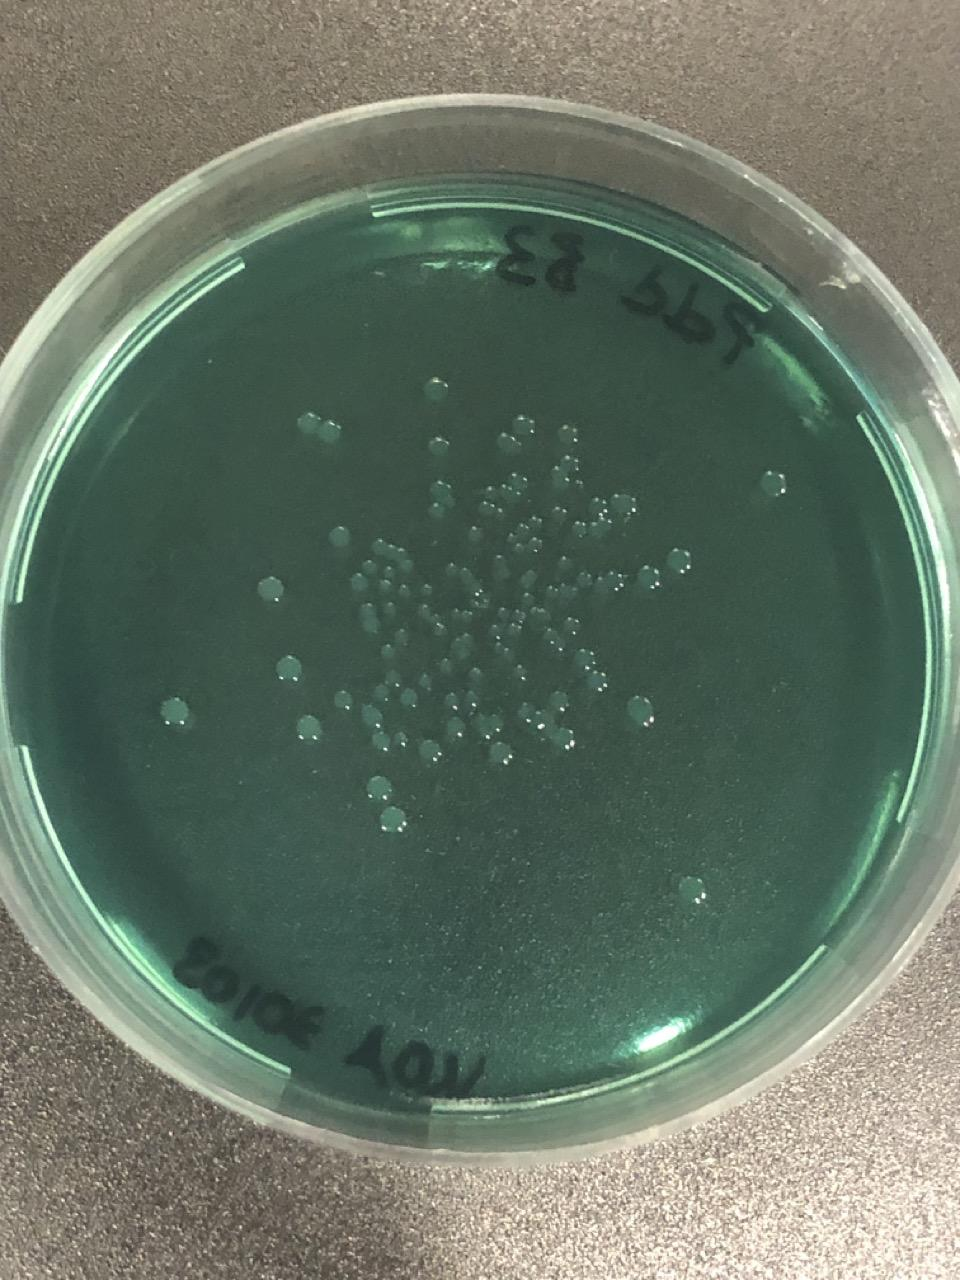pddamselae: (572, 492, 636, 538), (475, 470, 529, 520), (496, 606, 552, 638), (572, 648, 610, 694), (373, 539, 414, 575), (536, 689, 571, 726), (548, 454, 581, 486), (429, 480, 452, 518), (678, 877, 706, 905), (379, 806, 407, 834), (364, 773, 392, 801), (627, 698, 655, 726), (161, 698, 189, 726), (256, 576, 284, 604), (512, 514, 542, 538), (444, 562, 474, 584), (416, 741, 442, 766), (394, 686, 421, 710), (359, 604, 380, 634), (488, 742, 514, 766), (550, 727, 576, 751), (294, 717, 320, 741), (479, 710, 505, 734), (357, 703, 383, 727), (278, 658, 304, 682), (636, 564, 662, 588), (665, 548, 691, 572), (762, 470, 788, 494), (368, 729, 394, 752), (442, 716, 468, 739), (333, 688, 357, 711), (318, 419, 340, 442), (602, 570, 624, 592), (328, 526, 350, 548), (464, 524, 486, 546), (548, 506, 570, 528), (428, 436, 450, 458), (494, 432, 516, 454), (557, 424, 579, 446), (512, 416, 534, 438), (426, 379, 448, 401), (298, 412, 318, 432), (466, 666, 482, 684), (452, 638, 468, 656), (417, 602, 433, 620), (418, 672, 434, 689), (378, 642, 394, 659), (562, 617, 578, 634), (542, 585, 558, 602), (395, 584, 412, 600), (464, 692, 480, 708), (444, 692, 460, 708), (386, 668, 402, 684), (437, 658, 453, 674), (394, 628, 410, 644), (431, 622, 447, 638), (458, 610, 474, 626), (382, 602, 398, 618), (418, 584, 434, 600), (350, 574, 366, 590), (575, 572, 591, 588), (361, 558, 377, 574), (556, 554, 572, 570), (513, 663, 529, 678), (550, 636, 565, 652), (527, 535, 543, 550), (372, 684, 388, 698), (486, 624, 502, 638), (376, 580, 390, 596), (380, 564, 396, 578), (522, 570, 536, 585), (492, 556, 507, 570), (520, 592, 534, 606)
